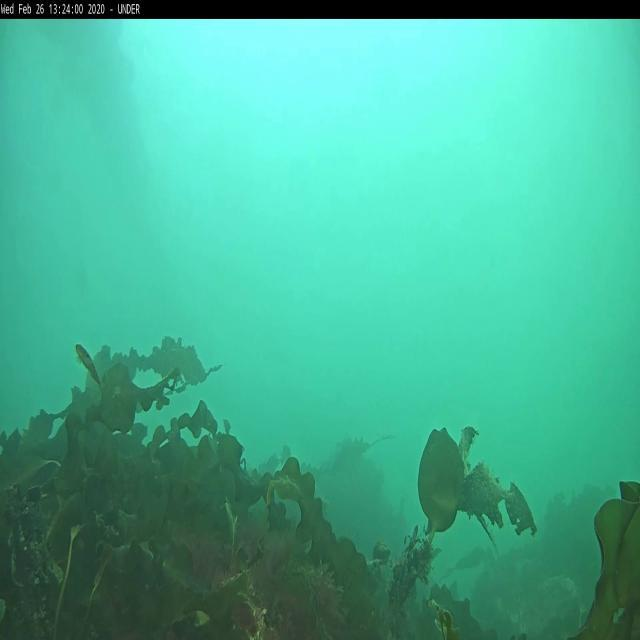fish: (73, 339, 102, 388)
